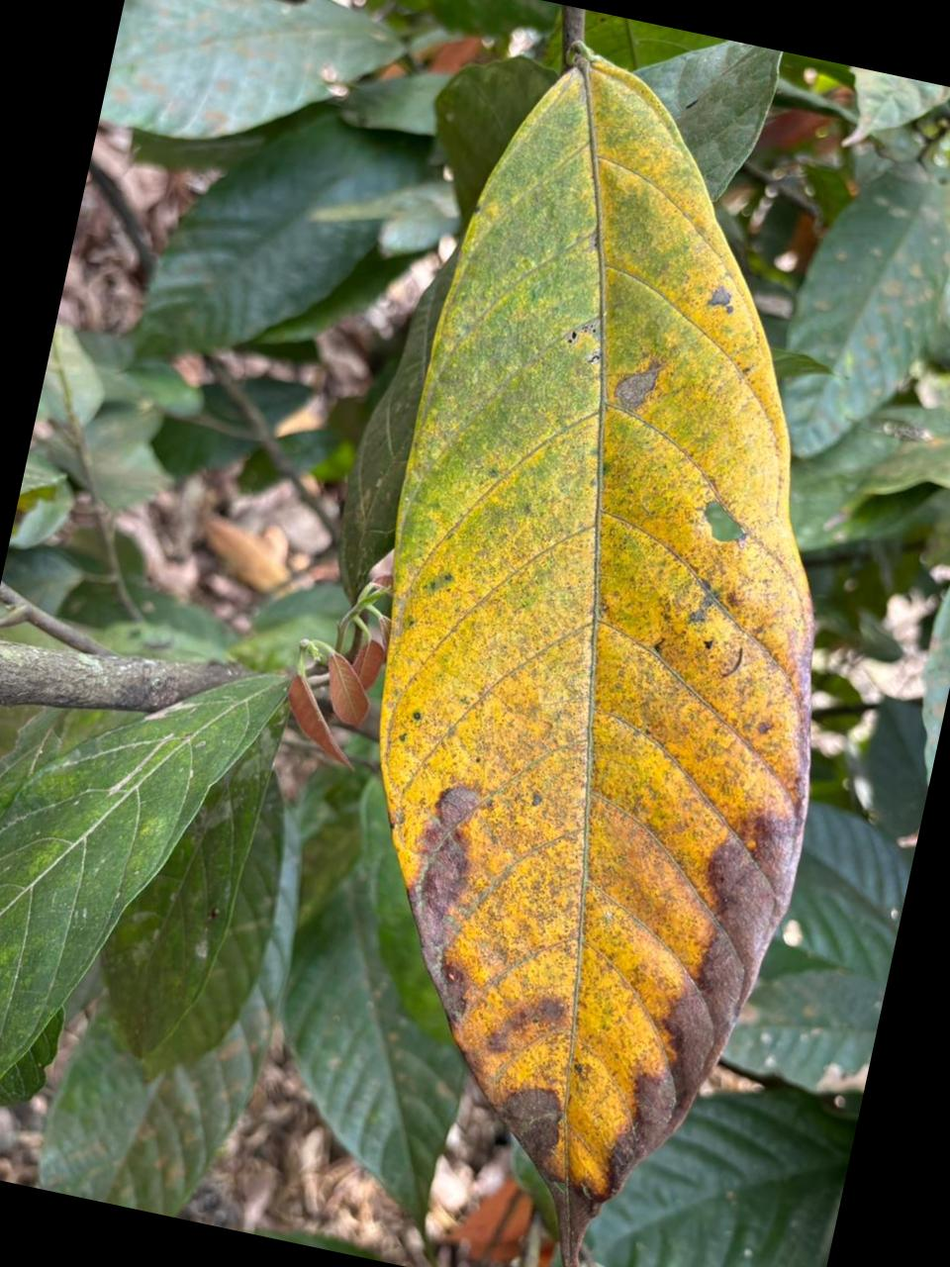Fosforo: (381, 46, 814, 1267)
